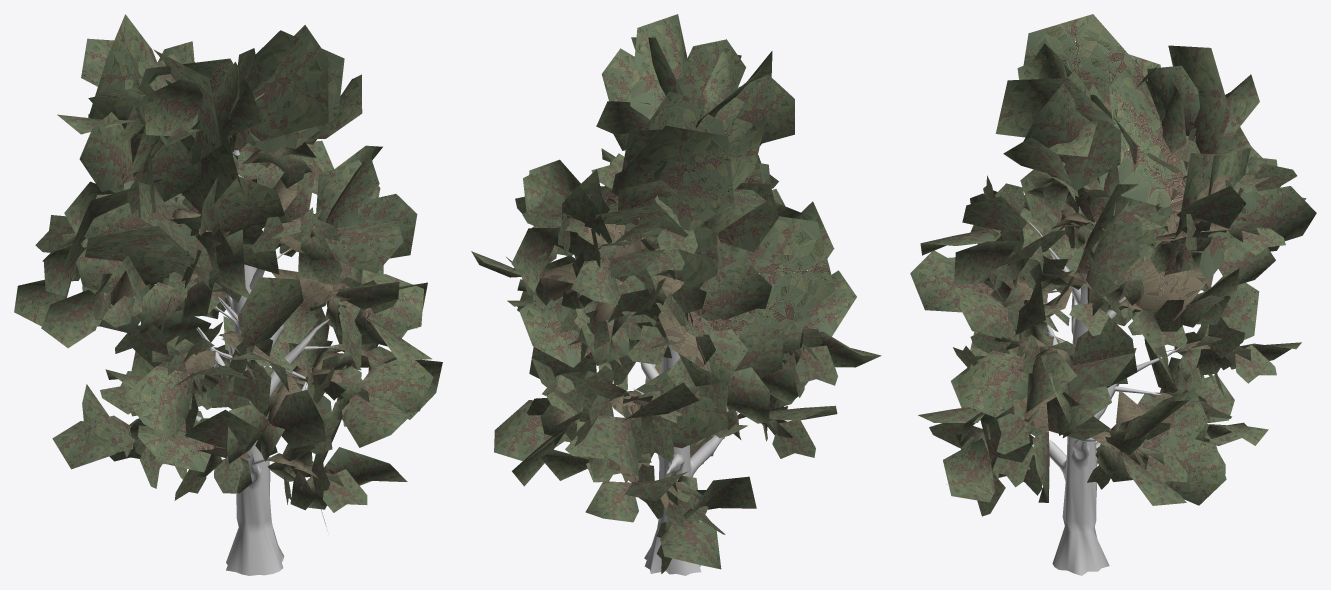
Rendered from oak_tree_a_lod0.fbx.
3 views of the same model, side by side, from view 1: azimuth 30°, elevation 25°; view 2: azimuth 150°, elevation 25°; view 3: azimuth 270°, elevation 25° (orthographic). The views are drawn at different scales.
Visible parts, largest first — view 1: LOD0; view 2: LOD0; view 3: LOD0.
Part boxes in pixels (bbox=[...]): LOD0: bbox=[14, 14, 442, 575]; LOD0: bbox=[471, 14, 881, 575]; LOD0: bbox=[910, 14, 1316, 575].
Size of the model in its own units: 577 by 847 by 619.
